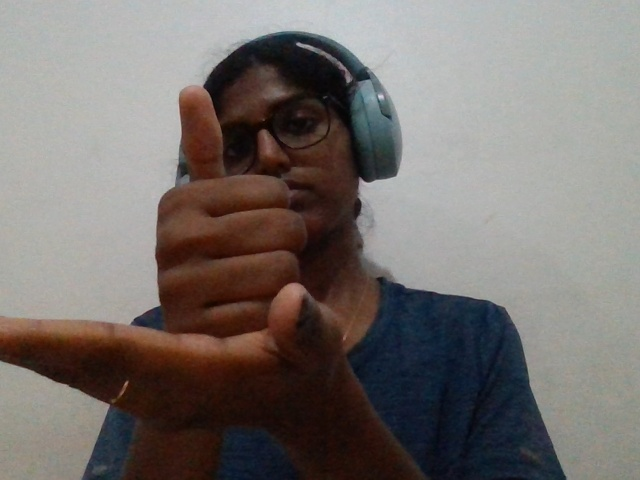Help: (2, 61, 444, 480)
